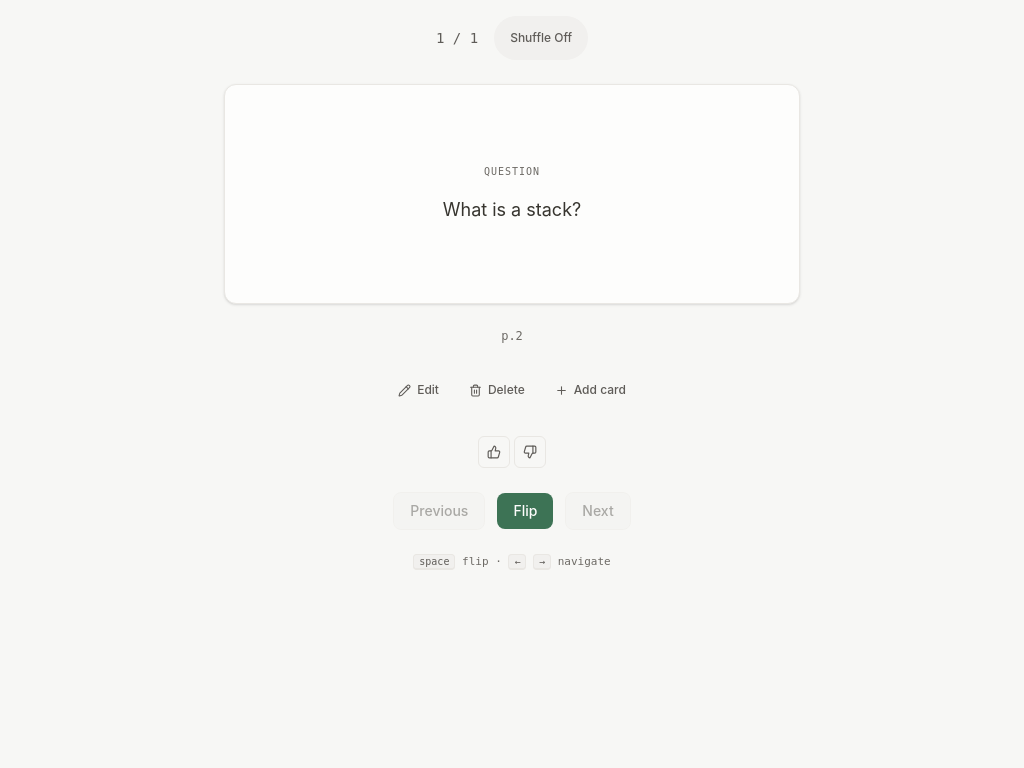
Test case: flashcard editing › edit saves the changes and shows the card under its NEW id with a Yours badge
Expected: the text "What is a stack?" is shown, [443,199,581,220]
Expected: the text "Yours" is not shown
Click the button "Edit".
click(418, 390)  # box [387,368,450,412]
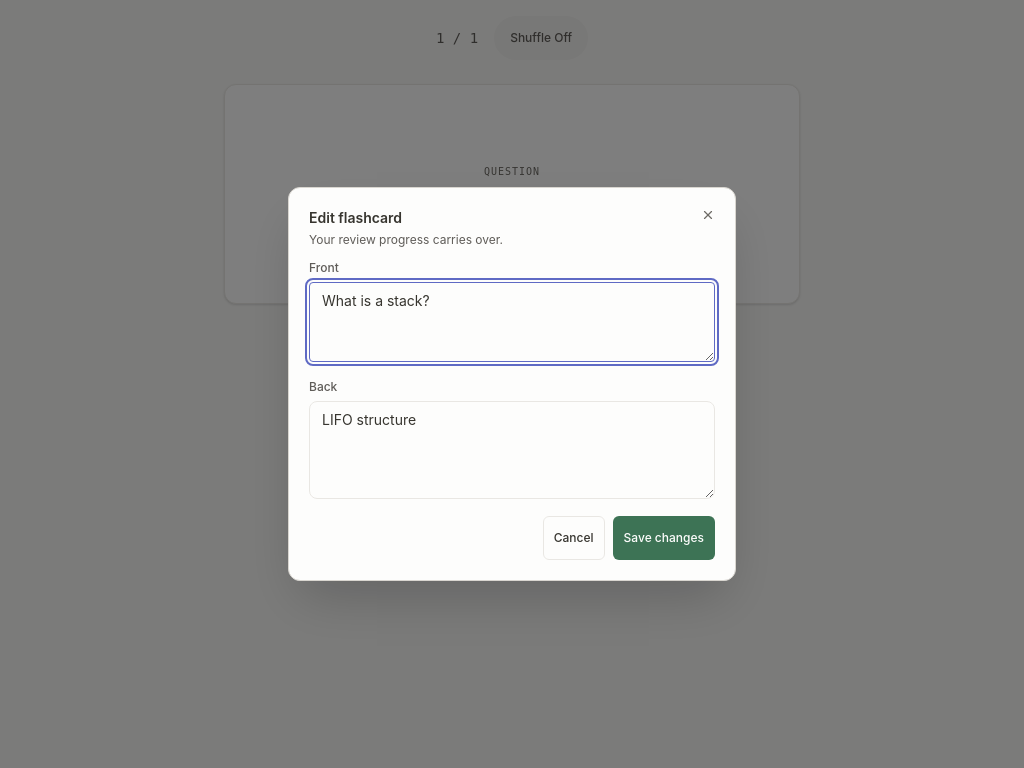
Replace the text in the text box labelled "Front" with "What is a stack, exactly?" at (512, 322), box [309,282,715,362]
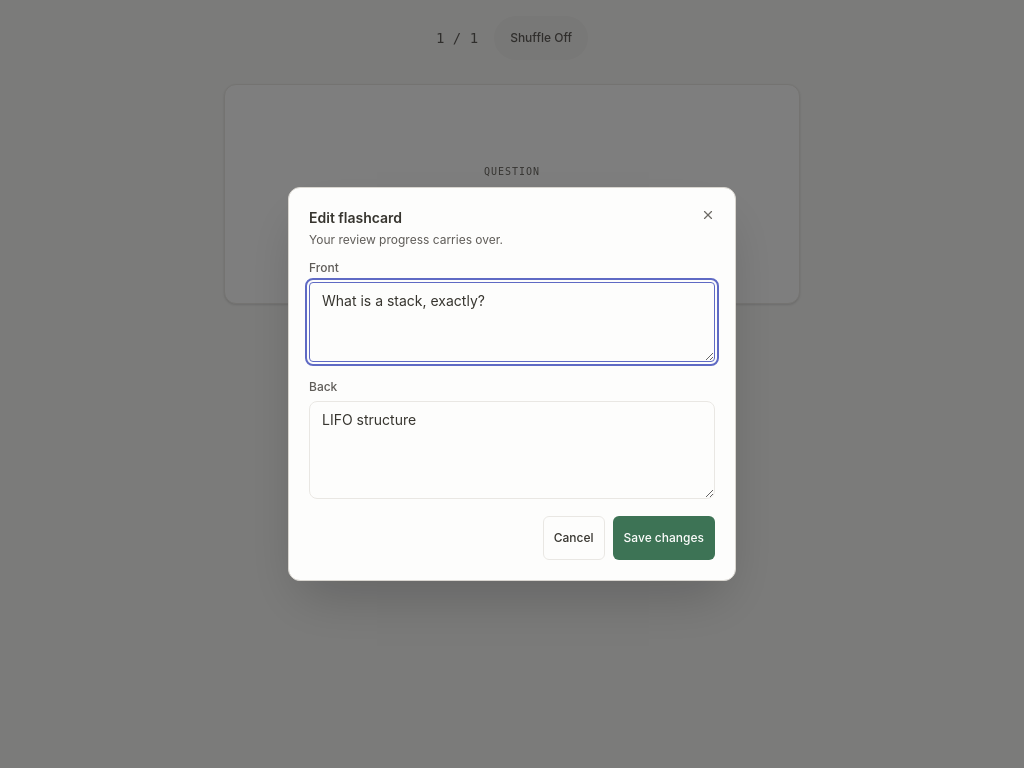
Click the button "Save changes".
click(664, 538)  # box [613,516,715,560]
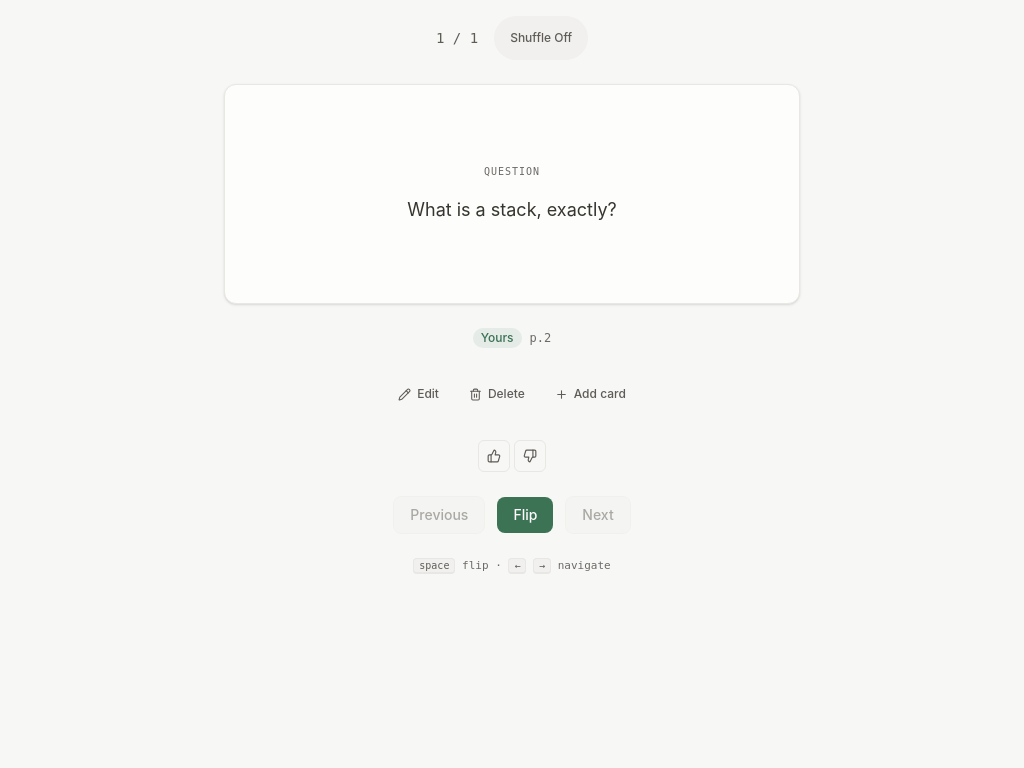
Expected: the text "What is a stack, exactly?" is shown, [407,199,617,220]
Expected: the text "Yours" is shown, [473,328,522,348]
Expected: the dialog is gone
